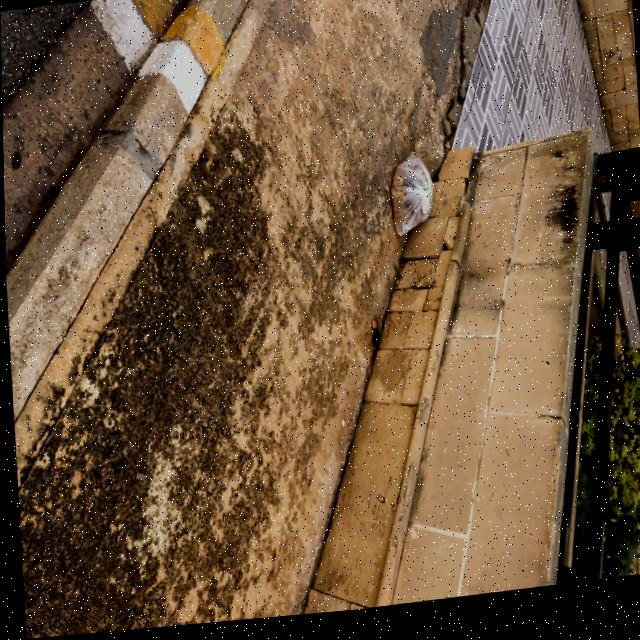Organic Waste -White Bag-: (382, 152, 440, 254)
